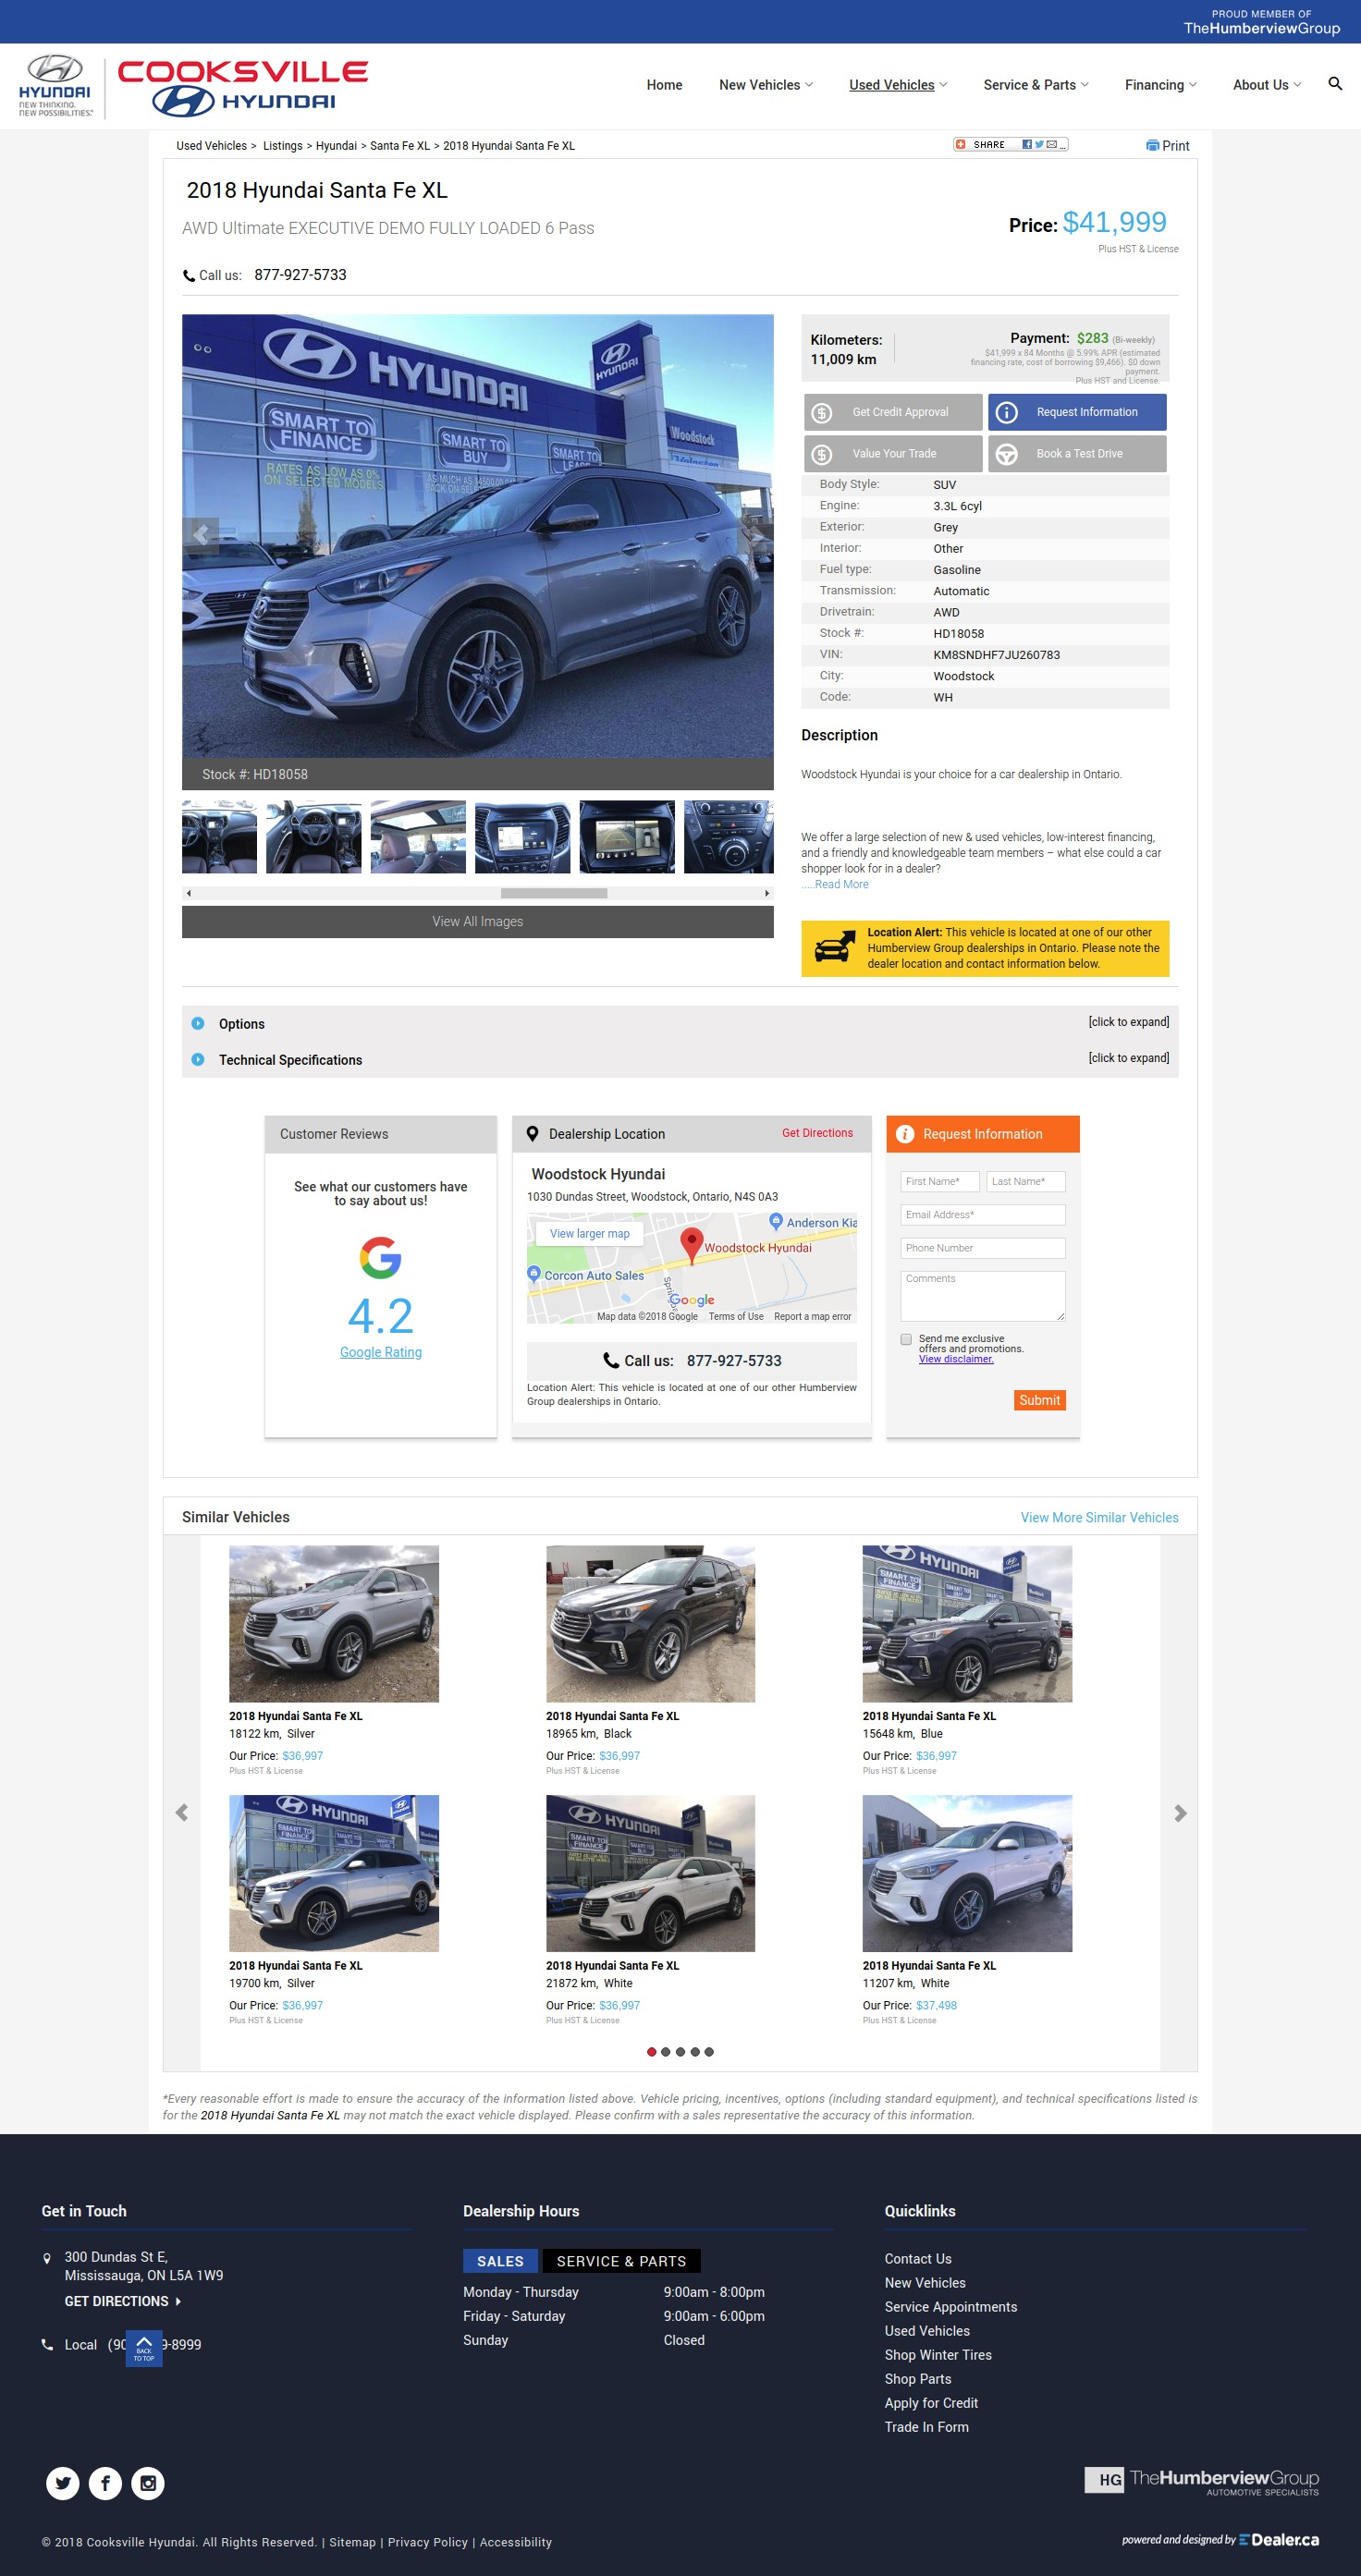car: (765, 889, 770, 898)
